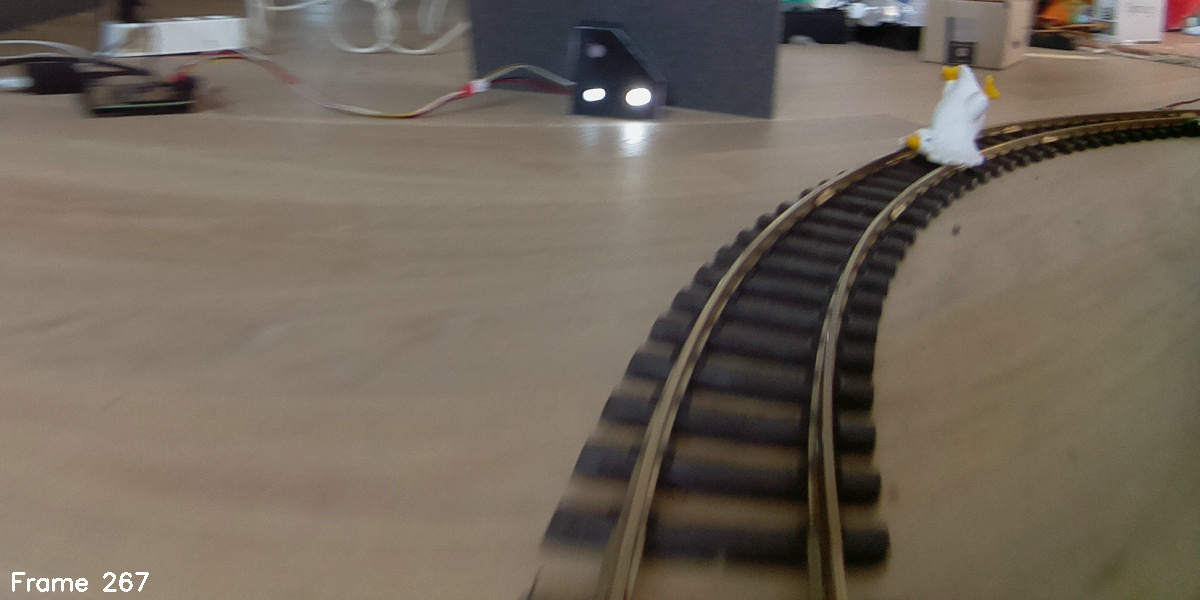Halt: (570, 23, 664, 120)
